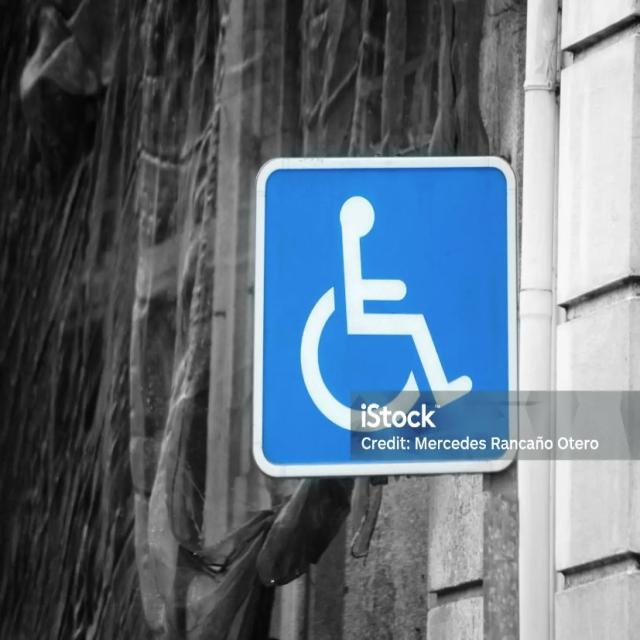symbol_of_access: (250, 155, 519, 479)
